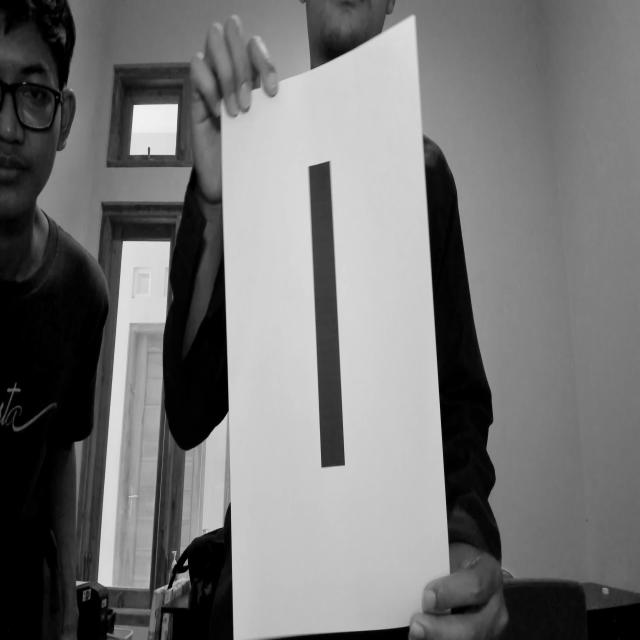i: (287, 135, 378, 519)
